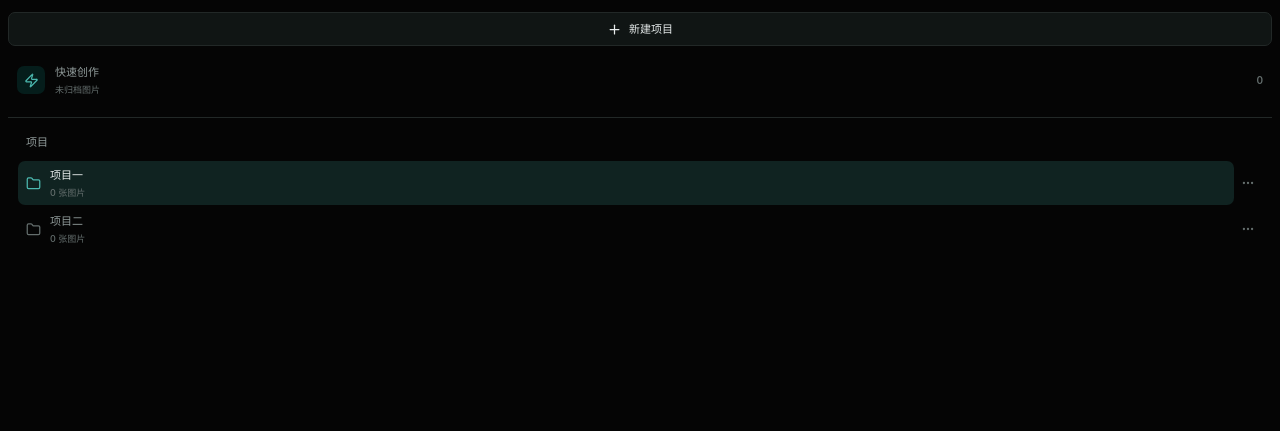
Scenario: ProjectList management › closes the project menu with Escape and restores focus
Click the button named "管理 项目一" at (1248, 183), box [1234, 169, 1262, 197]
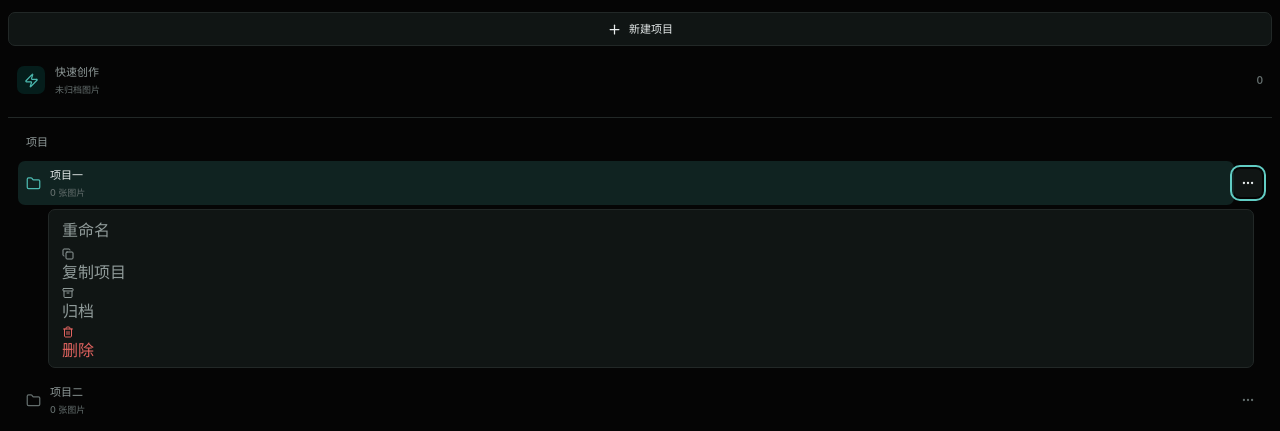
Check: the button "重命名" is shown, box [54, 215, 1248, 245]
Press Escape
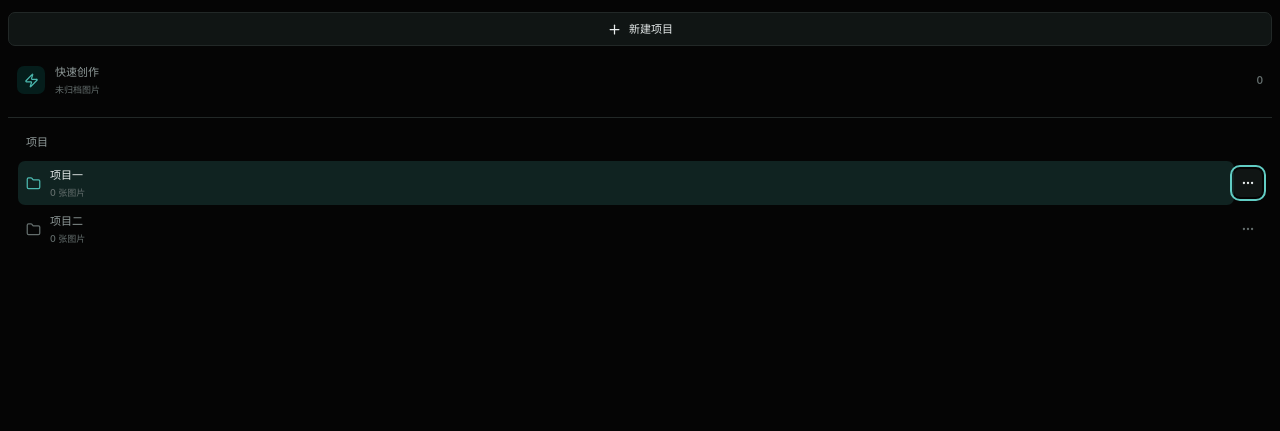
Check: the button "重命名" is gone
